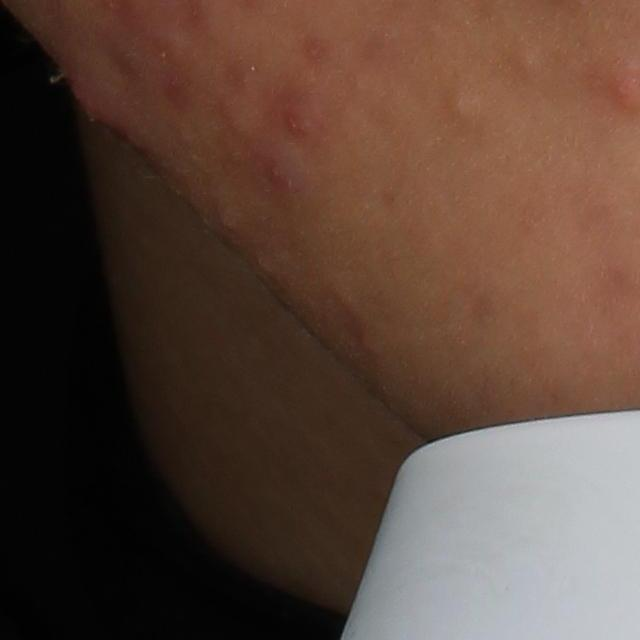comedo: (514, 38, 551, 89), (450, 85, 482, 125)
papule: (279, 75, 325, 153), (68, 70, 120, 136)
